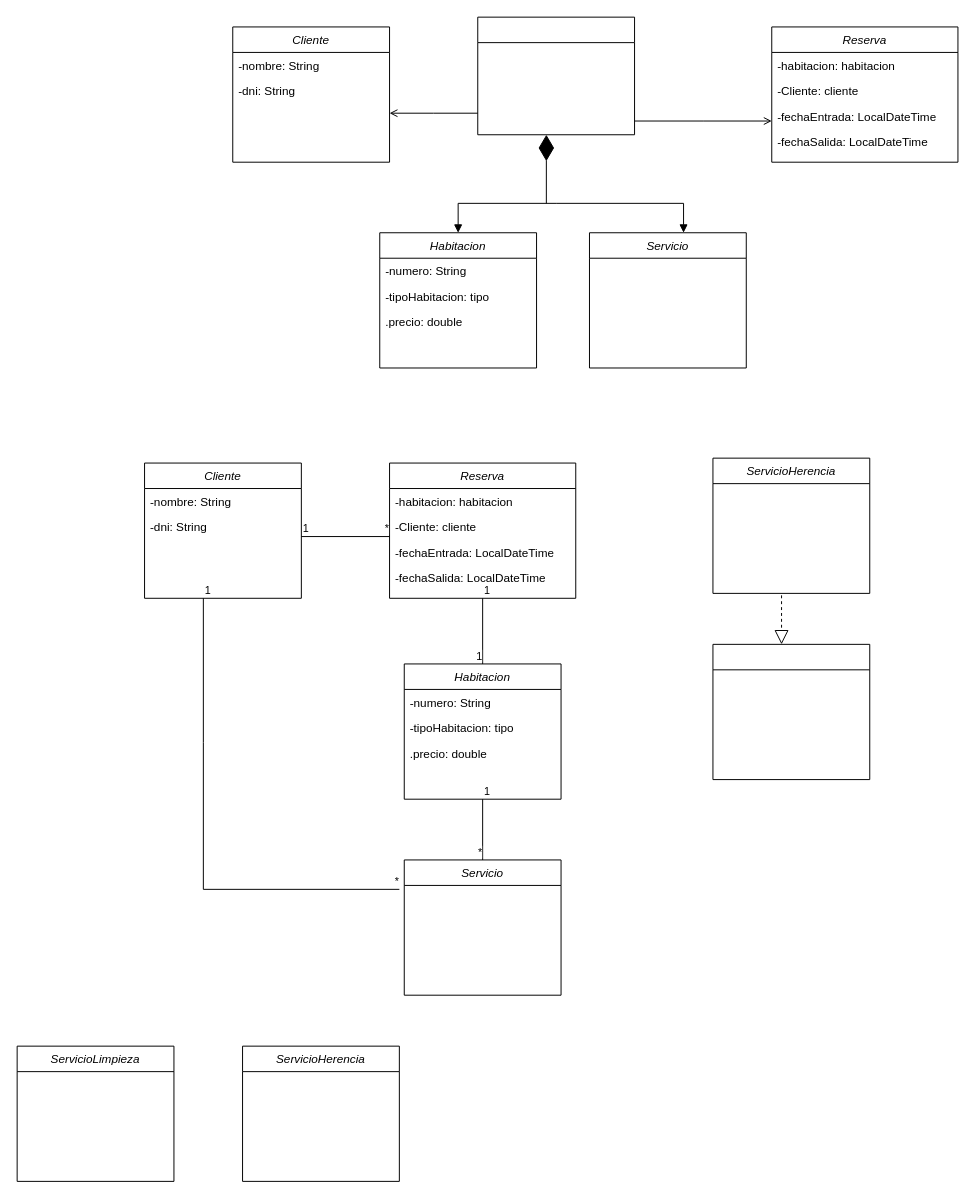
This 975x1199 diagram has some shape labels left out. Each missing label, with the box of its shape:
Hotel: (477, 16, 635, 135)
IConsumible: (712, 643, 870, 780)
